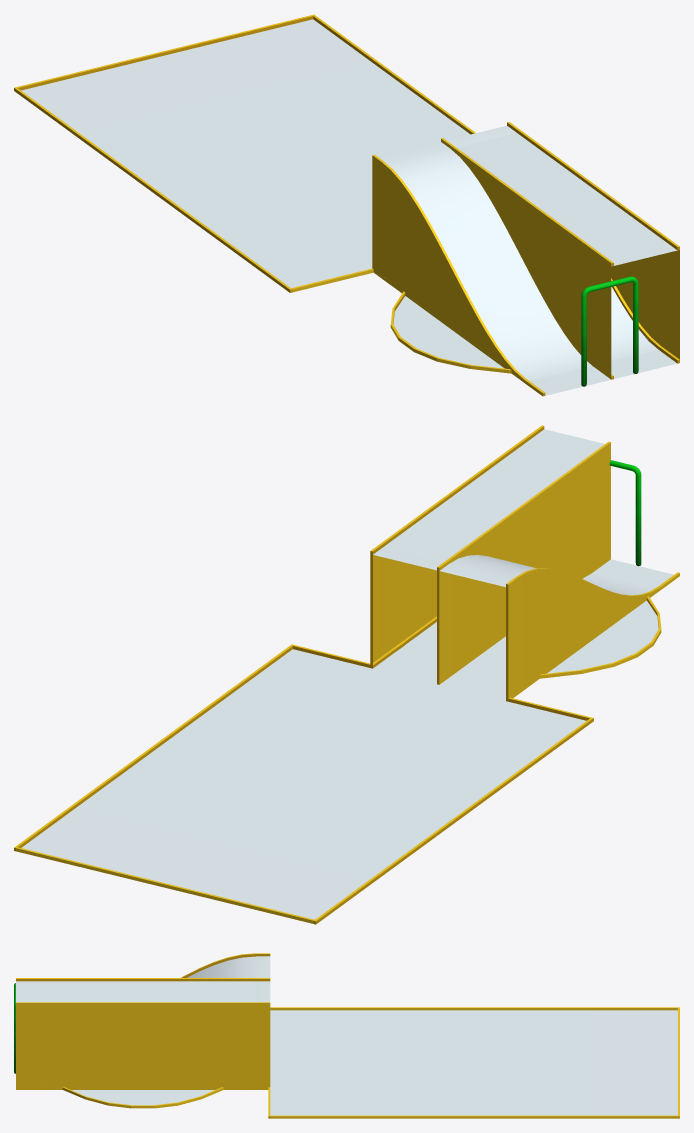
The model's file is Track_parts.glb.
3 renders of one model, top to bottom at view 1: azimuth 30°, elevation 25°; view 2: azimuth 150°, elevation 25°; view 3: azimuth 270°, elevation 25°, orthographic. The views are drawn at different scales.
Parts seen in each view (by area): view 1: Plane_Finish, Plane_Hill, Plane_flat_halfWall, Plane_Rotator, Plane_flat, Door_Green, Plane_flat_half; view 2: Plane_Finish, Plane_flat_halfWall, Plane_Hill, Plane_Rotator, Plane_flat, Plane_flat_half, Plane_Hill_Half, Door_Green; view 3: Plane_Finish, Plane_flat_halfWall, Plane_Hill, Plane_Hill_Half, Plane_Rotator.
Boxes of the visible parts, box(x1,y1,x2,y2) form: Plane_Finish: box(14, 14, 475, 292); Plane_Hill: box(372, 122, 660, 395); Plane_flat_halfWall: box(441, 122, 679, 378); Plane_Rotator: box(373, 270, 664, 396); Plane_flat: box(405, 293, 679, 396); Door_Green: box(581, 276, 638, 386); Plane_flat_half: box(579, 345, 679, 379); Plane_Finish: box(14, 590, 656, 924); Plane_flat_halfWall: box(373, 425, 610, 683); Plane_Hill: box(370, 544, 665, 698); Plane_Rotator: box(370, 561, 679, 699); Plane_flat: box(370, 559, 679, 701); Plane_flat_half: box(373, 556, 610, 684); Plane_Hill_Half: box(370, 551, 610, 684); Door_Green: box(609, 460, 641, 566); Plane_Finish: box(89, 1007, 679, 1118); Plane_flat_halfWall: box(16, 978, 256, 1087); Plane_Hill: box(46, 953, 270, 1089); Plane_Hill_Half: box(49, 978, 270, 1088); Plane_Rotator: box(16, 1087, 268, 1108).
Size of the model in its own units: 25.81 by 9.57 by 66.53.
Materials: 1 (1 with a texture image).
